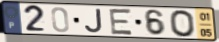0: (50, 6, 71, 34)
2: (21, 4, 49, 34)
6: (143, 9, 168, 37)
E: (108, 8, 135, 36)
J: (84, 8, 104, 34)
O: (168, 9, 198, 39)
